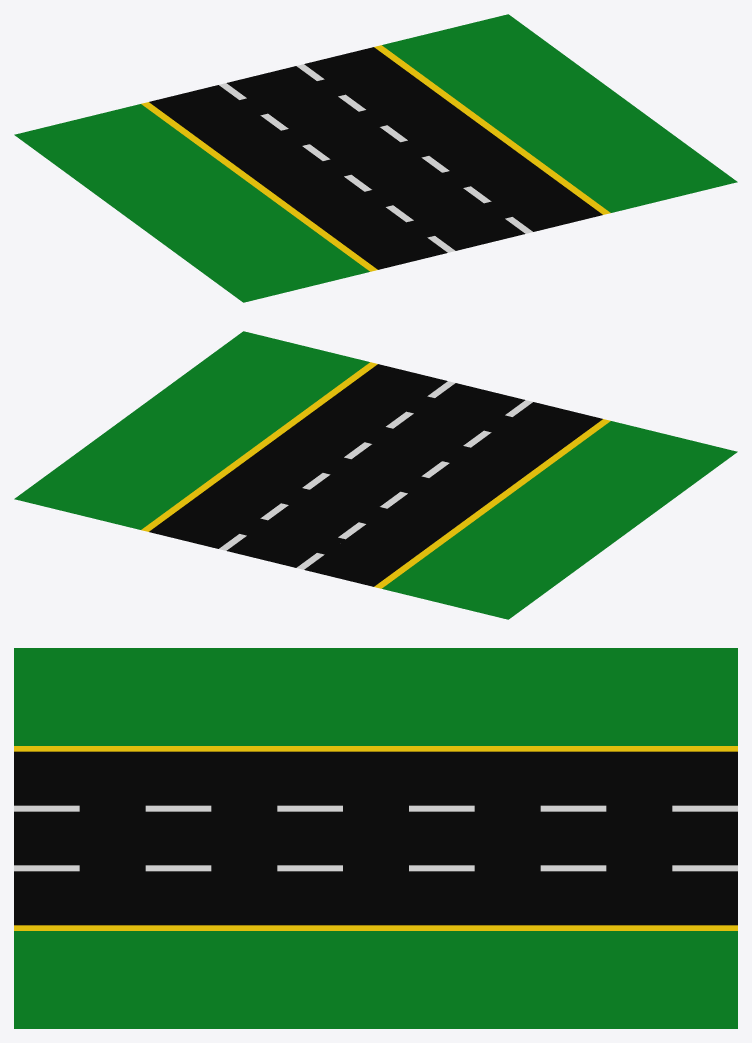
The model's file is Road.fbx.
3 renders of one model, top to bottom at view 1: azimuth 30°, elevation 25°; view 2: azimuth 150°, elevation 25°; view 3: azimuth 270°, elevation 25°, orthographic. The views are drawn at different scales.
Visible parts, largest first — view 1: Road; view 2: Road; view 3: Road.
Boxes of the visible parts, bbox=[...] form: Road: bbox=[14, 14, 737, 302]; Road: bbox=[14, 331, 737, 619]; Road: bbox=[14, 648, 737, 1028].
Bounding box in the file's own units: 1925 × 0.000118 × 1547.
